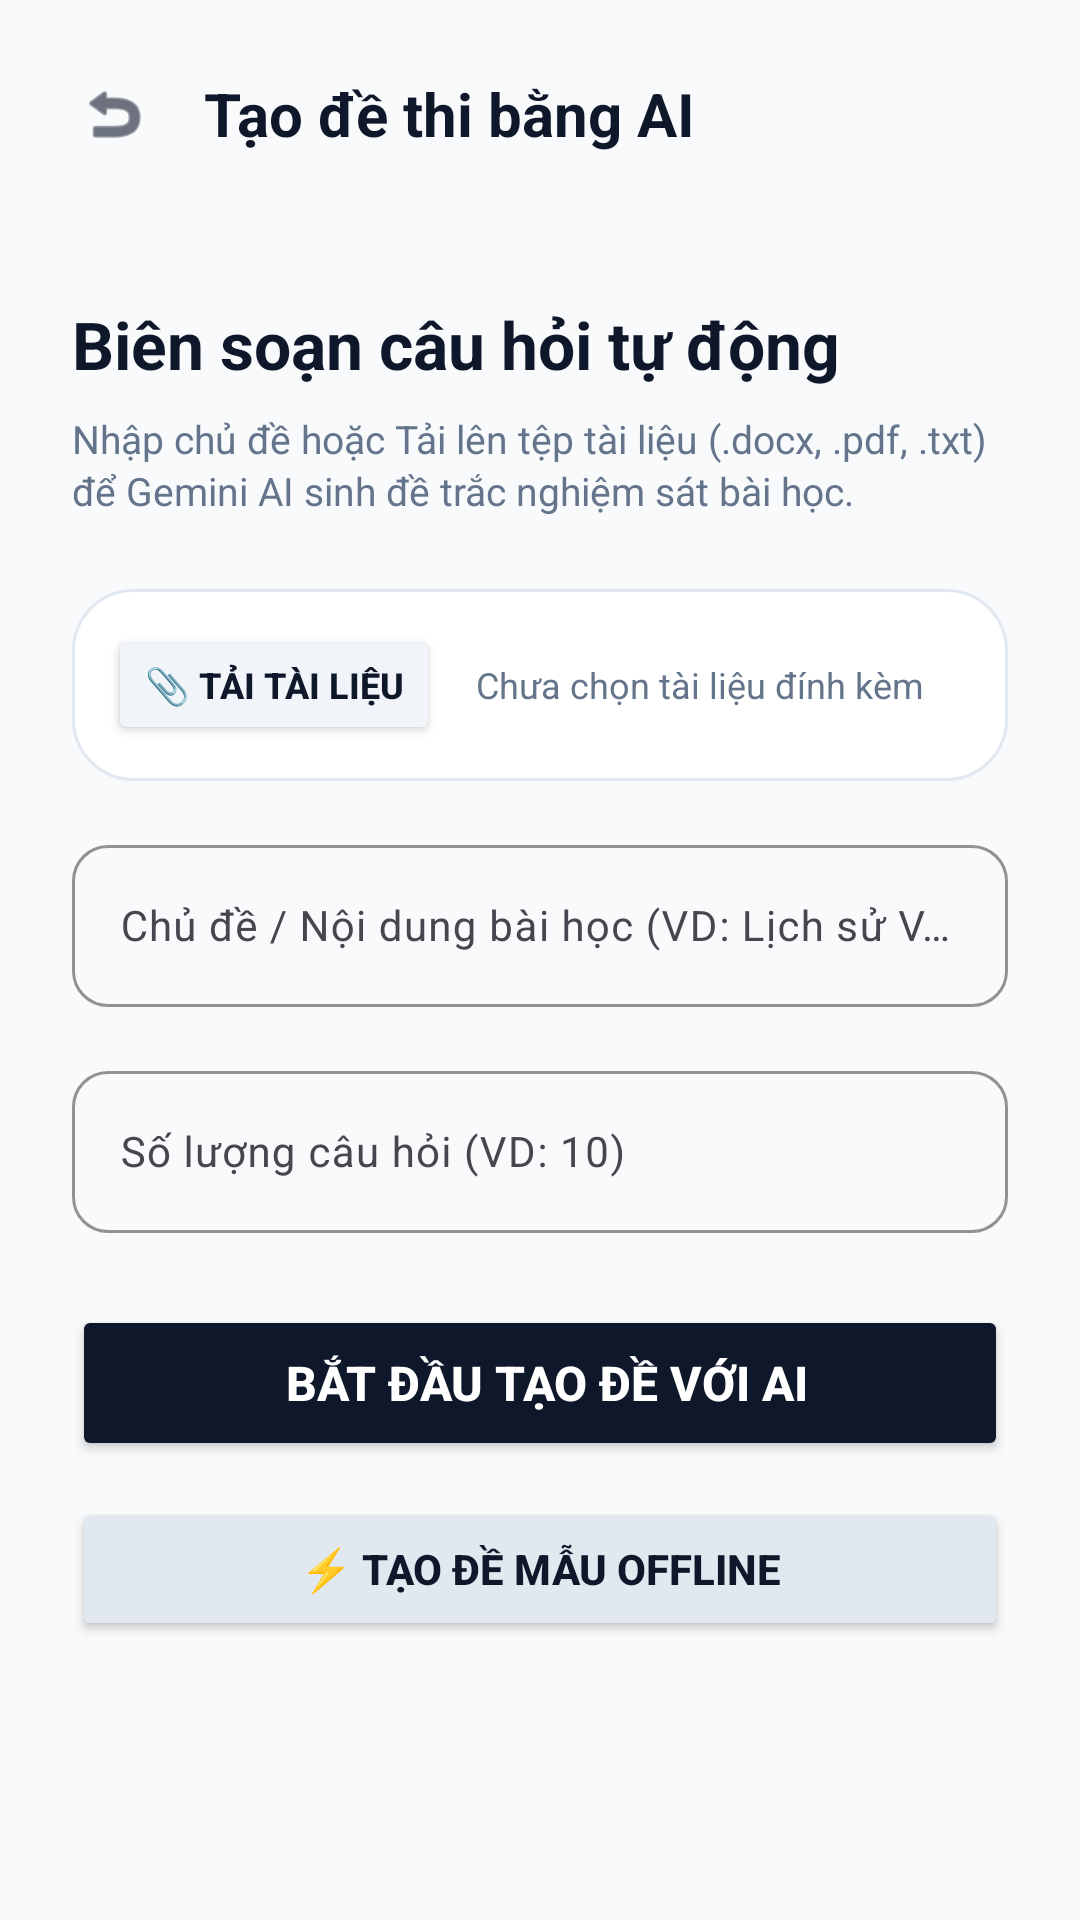

Icons on this 1080x1920 Android screen, each with the point to tap as (x=x, y=y):
revert: (x=115, y=114)
